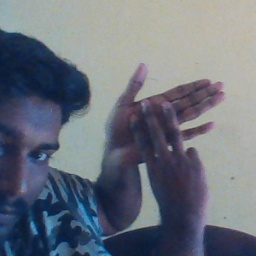M: (100, 61, 227, 214)
